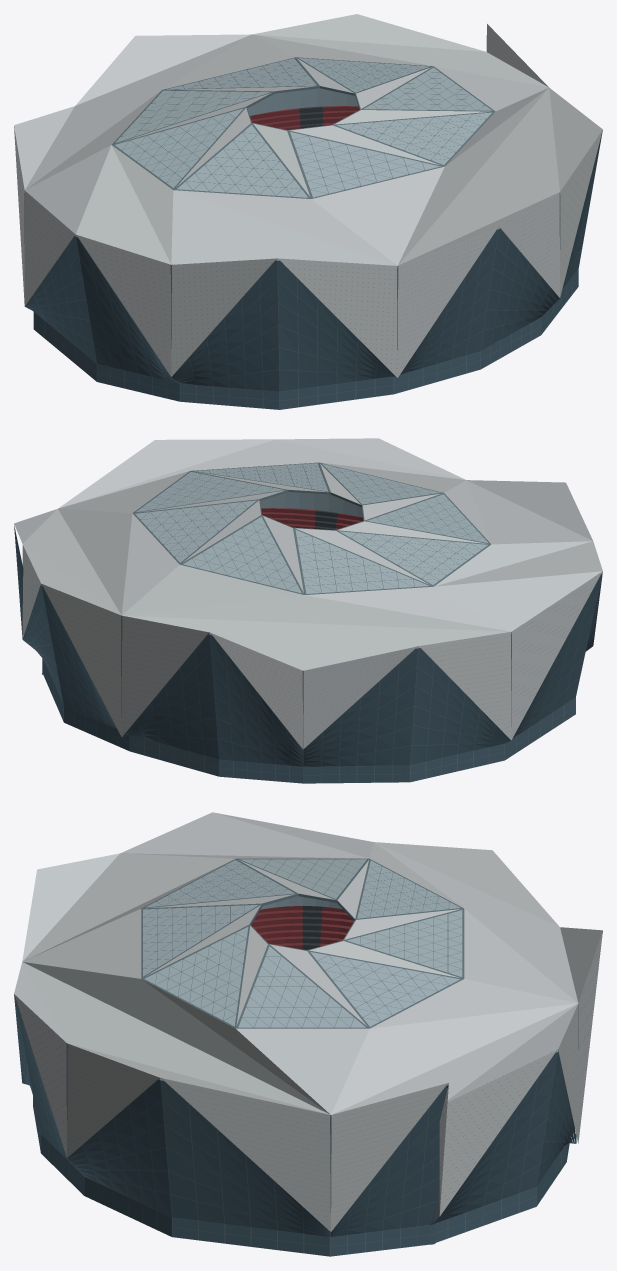
Rendered from mercedes-benz-stadium-near.glb.
3 views of the same model, one above another, from view 1: azimuth 30°, elevation 25°; view 2: azimuth 150°, elevation 25°; view 3: azimuth 270°, elevation 25° (orthographic). The views are drawn at different scales.
Parts seen in each view (by area): view 1: mercedes-benz-stadium-0-silver, mercedes-benz-stadium-0-glass, mercedes-benz-stadium-0-roof, mercedes-benz-stadium-0-frame, mercedes-benz-stadium-0-glow, mercedes-benz-stadium-0-seating; view 2: mercedes-benz-stadium-0-silver, mercedes-benz-stadium-0-glass, mercedes-benz-stadium-0-roof, mercedes-benz-stadium-0-frame, mercedes-benz-stadium-0-glow, mercedes-benz-stadium-0-seating; view 3: mercedes-benz-stadium-0-silver, mercedes-benz-stadium-0-glass, mercedes-benz-stadium-0-roof, mercedes-benz-stadium-0-frame, mercedes-benz-stadium-0-seating, mercedes-benz-stadium-0-dark.
Part boxes in pixels (left/top/right/bottom): mercedes-benz-stadium-0-silver: left=14, top=14, right=602, bottom=377; mercedes-benz-stadium-0-glass: left=25, top=133, right=602, bottom=409; mercedes-benz-stadium-0-roof: left=115, top=58, right=492, bottom=197; mercedes-benz-stadium-0-frame: left=14, top=57, right=601, bottom=409; mercedes-benz-stadium-0-glow: left=247, top=88, right=358, bottom=115; mercedes-benz-stadium-0-seating: left=250, top=106, right=359, bottom=130; mercedes-benz-stadium-0-silver: left=14, top=438, right=602, bottom=748; mercedes-benz-stadium-0-glass: left=14, top=524, right=602, bottom=783; mercedes-benz-stadium-0-roof: left=135, top=463, right=488, bottom=593; mercedes-benz-stadium-0-frame: left=14, top=462, right=602, bottom=783; mercedes-benz-stadium-0-glow: left=260, top=492, right=362, bottom=517; mercedes-benz-stadium-0-seating: left=261, top=508, right=363, bottom=529; mercedes-benz-stadium-0-silver: left=14, top=812, right=602, bottom=1231; mercedes-benz-stadium-0-glass: left=14, top=997, right=576, bottom=1256; mercedes-benz-stadium-0-roof: left=143, top=859, right=462, bottom=1027; mercedes-benz-stadium-0-frame: left=14, top=858, right=602, bottom=1256; mercedes-benz-stadium-0-seating: left=251, top=906, right=354, bottom=949; mercedes-benz-stadium-0-dark: left=302, top=906, right=448, bottom=1219.
Size of the model in its own units: 276 by 93 by 246.
